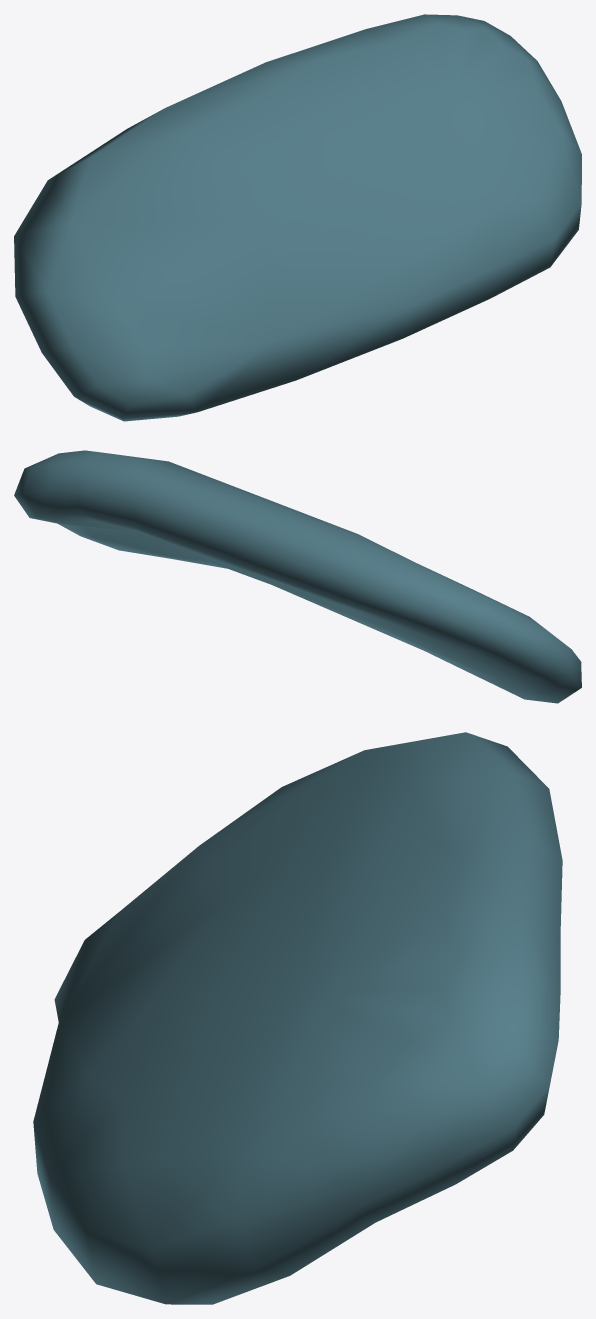
The model's file is Flexor_digitorum_profundus_4th_finger_distal_phalanx_right.glb.
3 views of the same model, one above another, from view 1: azimuth 30°, elevation 25°; view 2: azimuth 150°, elevation 25°; view 3: azimuth 270°, elevation 25° (orthographic). The views are drawn at different scales.
Parts seen in each view (by area): view 1: Flexor_digitorum_profundus_on_distal_phalanx_of_4th_finger.r; view 2: Flexor_digitorum_profundus_on_distal_phalanx_of_4th_finger.r; view 3: Flexor_digitorum_profundus_on_distal_phalanx_of_4th_finger.r.
Part boxes in pixels (left/top/right/bottom): Flexor_digitorum_profundus_on_distal_phalanx_of_4th_finger.r: left=14, top=14, right=581, bottom=421; Flexor_digitorum_profundus_on_distal_phalanx_of_4th_finger.r: left=14, top=450, right=581, bottom=703; Flexor_digitorum_profundus_on_distal_phalanx_of_4th_finger.r: left=33, top=732, right=562, bottom=1304.
Size of the model in its own units: 0.00384 by 0.0016 by 0.00175.
